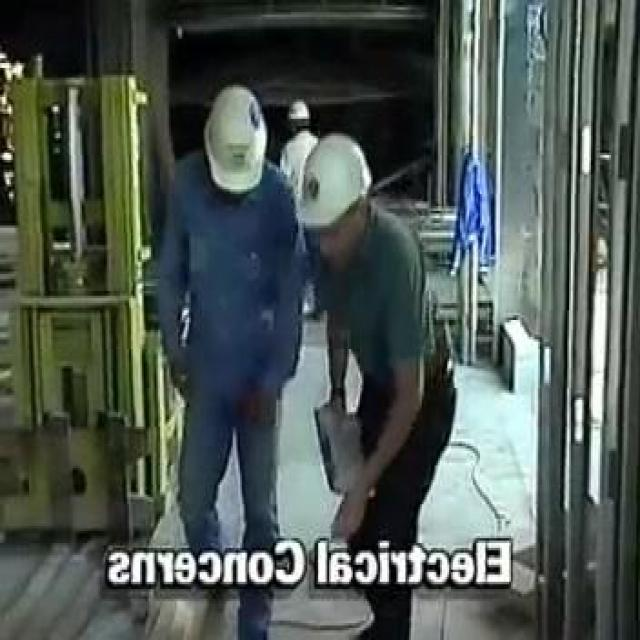Safety-Helmet: (289, 126, 387, 240), (193, 73, 276, 196), (280, 90, 320, 136)
